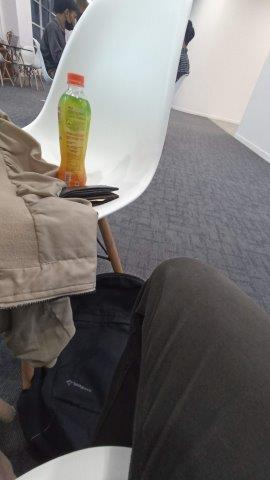botolplastik: (58, 72, 91, 189)
